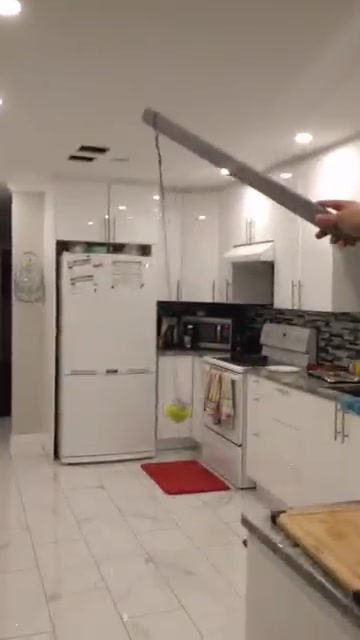tennis_ball: (167, 399, 190, 423)
